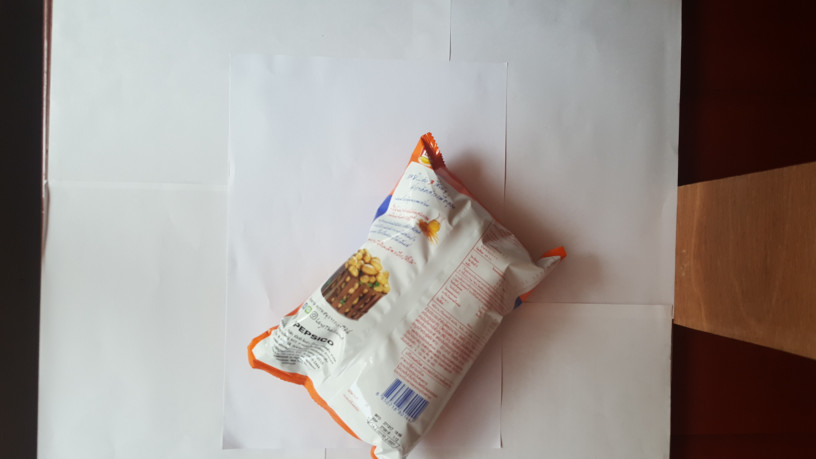lays-bbq: (244, 138, 569, 459)
